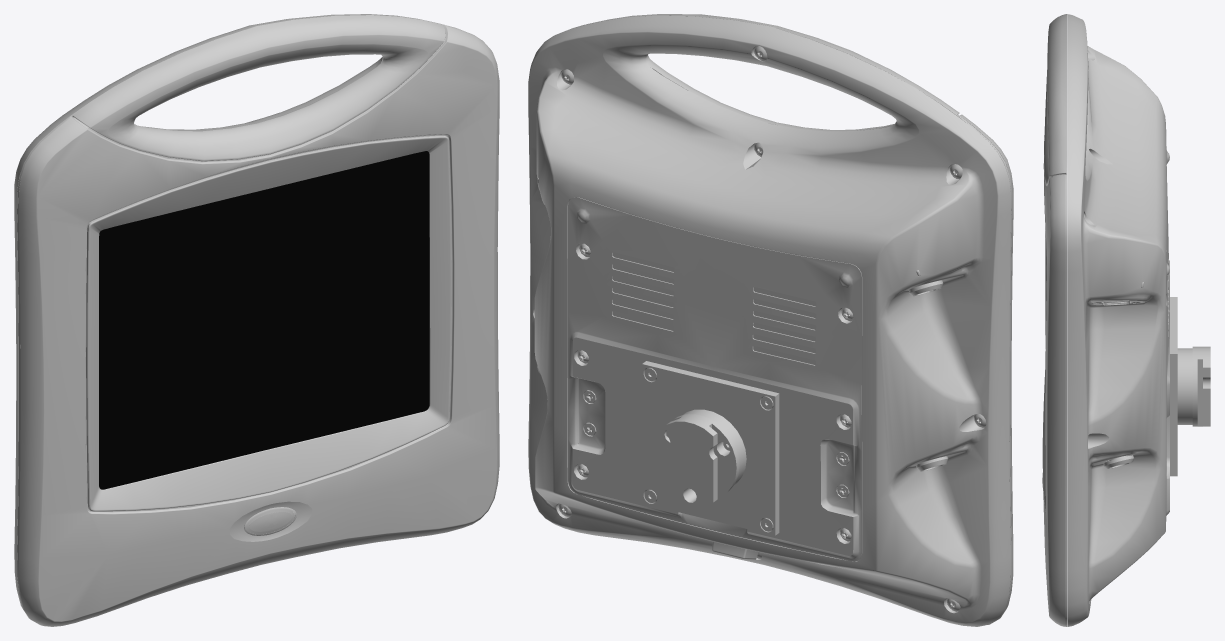
File: CorTrak_MU_assy.fbx
3 views of the same model, side by side, from view 1: azimuth 30°, elevation 25°; view 2: azimuth 150°, elevation 25°; view 3: azimuth 270°, elevation 25° (orthographic). The views are drawn at different scales.
Parts seen in each view (by area): view 1: MU_shell_top, MU_display_screen, MU_bezel, MU_shell_handle, MU_shell_Btm; view 2: MU_shell_Btm, MU_shell_Btm_panel, MU_mntg_bracket_plate, MU_mntg_bracket_pin, MU_blackout_inside, MU_shell_handle, MU_shell_top, MU_screw_star; view 3: MU_shell_Btm, MU_shell_top, MU_shell_handle, MU_mntg_bracket_pin, MU_mntg_bracket_plate, MU_shell_Btm_panel, MU_bezel.
Boxes of the visible parts, x1,y1,x2,y2 form: MU_shell_top: [18, 26, 499, 626]; MU_display_screen: [99, 151, 429, 489]; MU_bezel: [86, 135, 451, 511]; MU_shell_handle: [17, 15, 483, 618]; MU_shell_Btm: [14, 14, 460, 607]; MU_shell_Btm: [528, 15, 1011, 626]; MU_shell_Btm_panel: [567, 197, 862, 561]; MU_mntg_bracket_plate: [642, 361, 779, 535]; MU_mntg_bracket_pin: [658, 409, 746, 505]; MU_blackout_inside: [612, 252, 816, 364]; MU_shell_handle: [571, 14, 1012, 624]; MU_shell_top: [958, 114, 1013, 617]; MU_screw_star: [559, 46, 986, 610]; MU_shell_Btm: [1068, 14, 1166, 626]; MU_shell_top: [1043, 18, 1065, 626]; MU_shell_handle: [1044, 14, 1067, 626]; MU_mntg_bracket_pin: [1177, 346, 1210, 426]; MU_mntg_bracket_plate: [1170, 297, 1177, 476]; MU_shell_Btm_panel: [1166, 146, 1169, 515]; MU_bezel: [1042, 135, 1046, 510].
Size of the model in its own units: 30.92 by 33.88 by 10.69.
